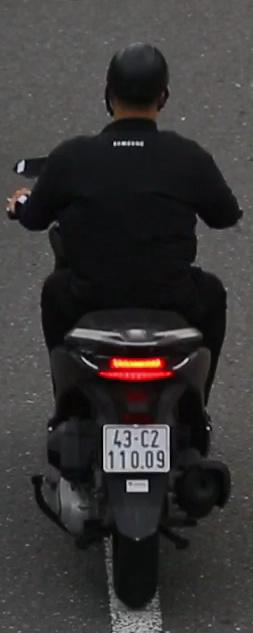LP: (98, 416, 176, 479)
helmet: (95, 35, 177, 141)
